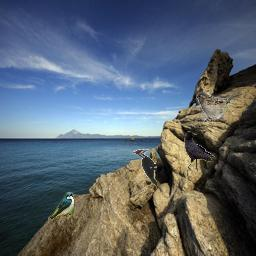Crow: (184, 131, 215, 171)
Sparrow: (196, 92, 235, 122)
Swallow: (48, 192, 74, 220)
Woodpecker: (132, 149, 157, 189)
